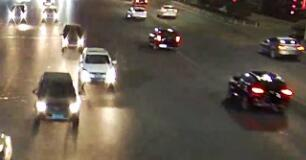car: (30, 71, 81, 127), (226, 70, 292, 109), (76, 47, 118, 90), (258, 35, 303, 58), (147, 27, 181, 49), (60, 22, 84, 51), (6, 2, 28, 23), (39, 4, 60, 23), (125, 6, 148, 19), (157, 4, 178, 18)
